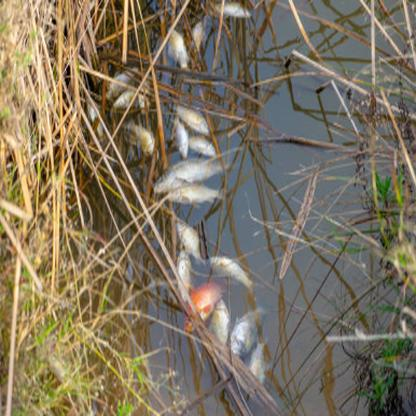deceased fish: (154, 152, 231, 192), (183, 274, 220, 339), (232, 302, 263, 367), (204, 251, 253, 287), (175, 218, 206, 263), (173, 101, 211, 133), (210, 299, 231, 352), (172, 251, 194, 300), (170, 121, 190, 158)
